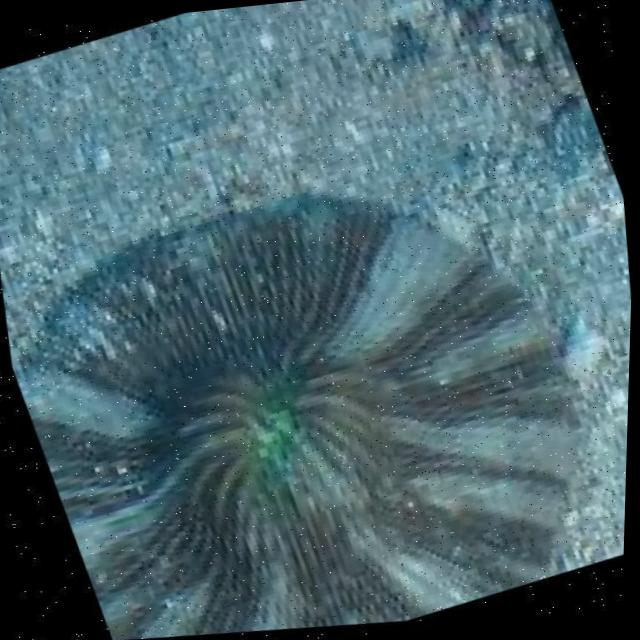Healthy Coral: (0, 79, 638, 640)
